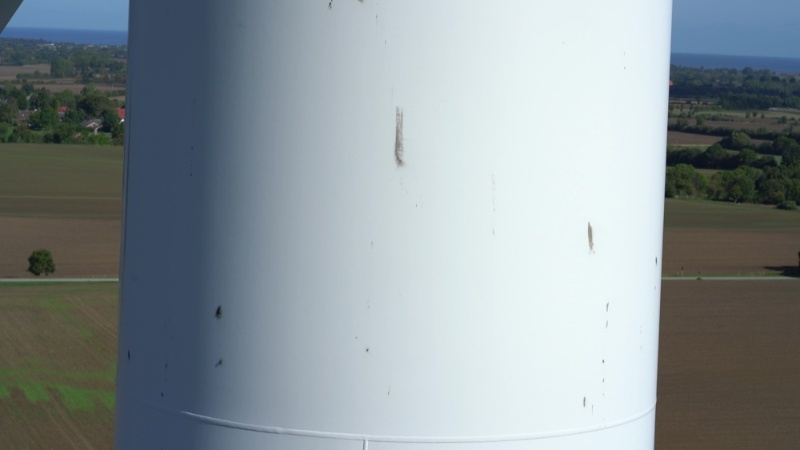weldseam: (112, 379, 660, 446)
